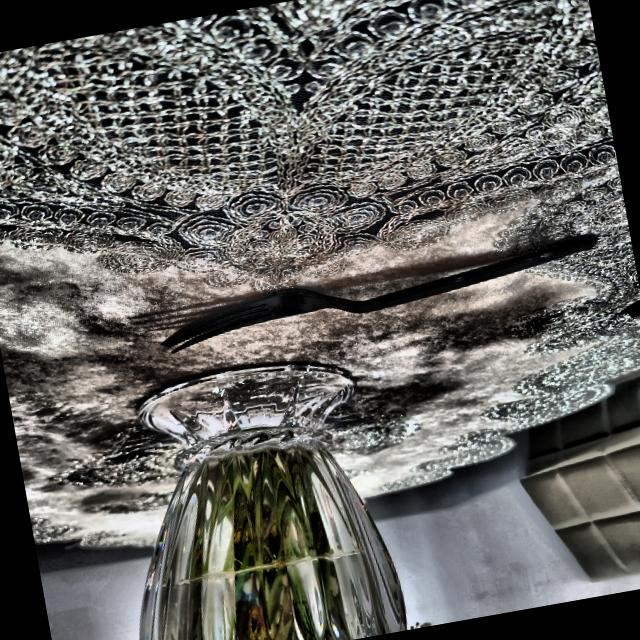plastic utensil: (151, 224, 604, 354)
